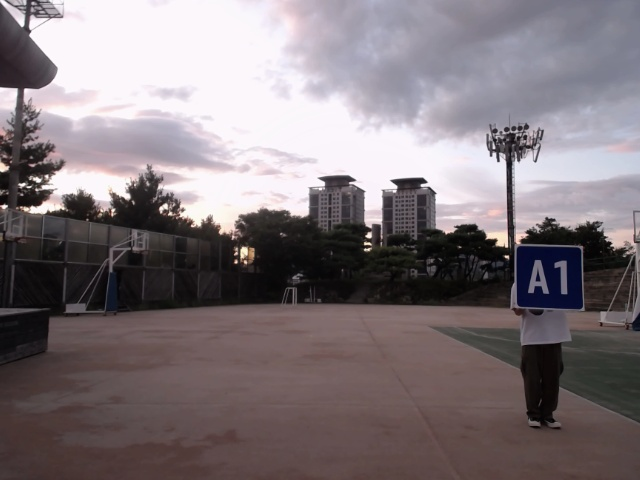delivery_a1: (515, 245, 584, 310)
